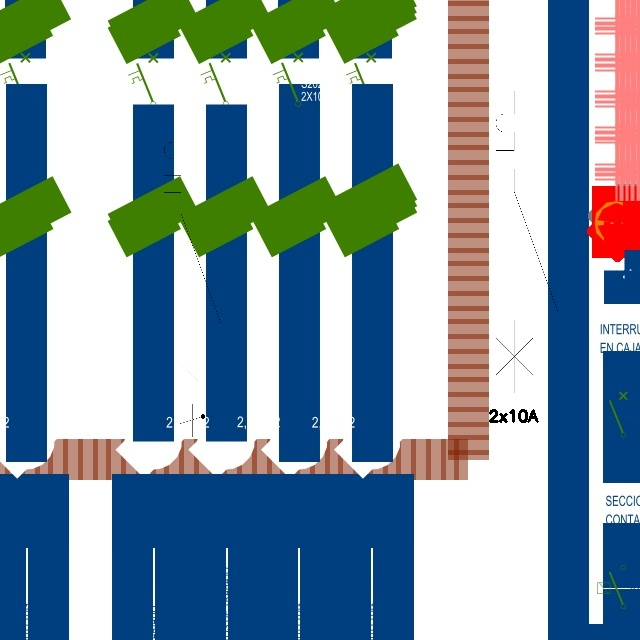interruptor_termomagnetico: (488, 83, 566, 401), (157, 114, 228, 404)
